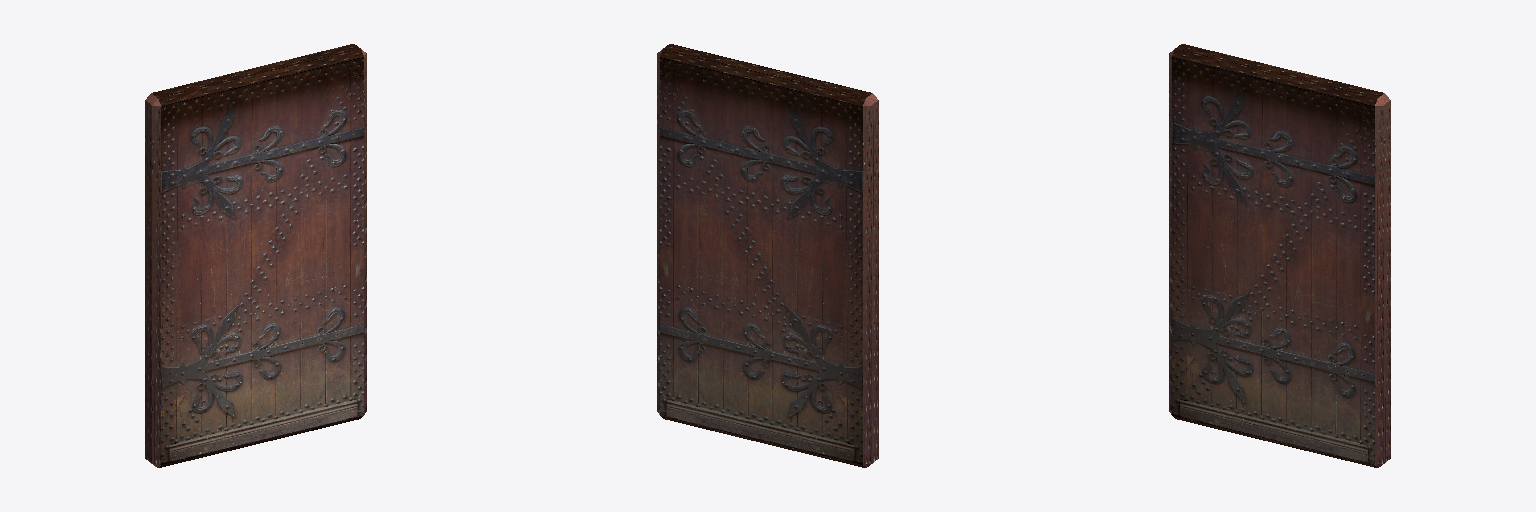
3 renders of one model, left to right at view 1: azimuth 30°, elevation 25°; view 2: azimuth 150°, elevation 25°; view 3: azimuth 330°, elevation 25°, orthographic.
Parts seen in each view (by area): view 1: Mesh; view 2: Mesh; view 3: Mesh.
Part boxes in pixels (bbox=[...]): Mesh: bbox=[145, 44, 366, 467]; Mesh: bbox=[657, 44, 878, 467]; Mesh: bbox=[1169, 44, 1390, 467].
Bounding box in the file's own units: 19.95 × 32.95 × 2.19.
1 materials, 1 textured.